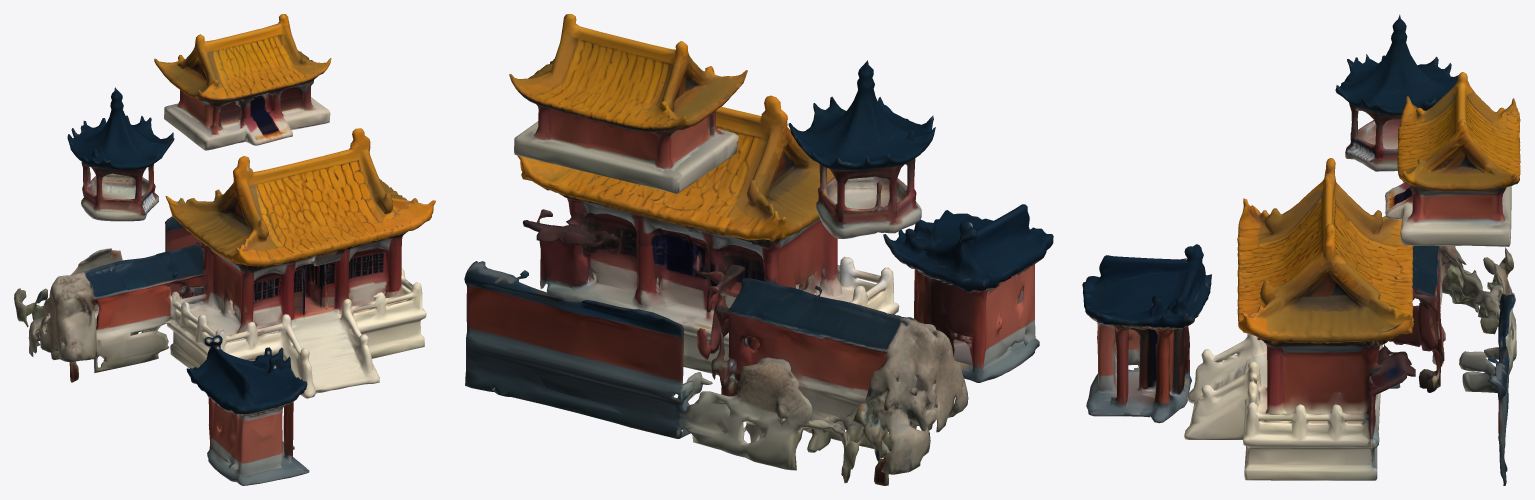
The picture shows the model from 3 angles, left to right: view 1: azimuth 30°, elevation 25°; view 2: azimuth 150°, elevation 25°; view 3: azimuth 270°, elevation 25°; orthographic projection. The views are drawn at different scales.
Visible parts, largest first — view 1: material.001; view 2: material.001; view 3: material.001.
Part boxes in pixels (left/top/right/bottom): material.001: left=14, top=14, right=435, bottom=485; material.001: left=464, top=14, right=1053, bottom=485; material.001: left=1082, top=14, right=1520, bottom=485.
Size of the model in its own units: 0.7794 by 0.7266 by 0.7763.
1 material, 1 textured.
